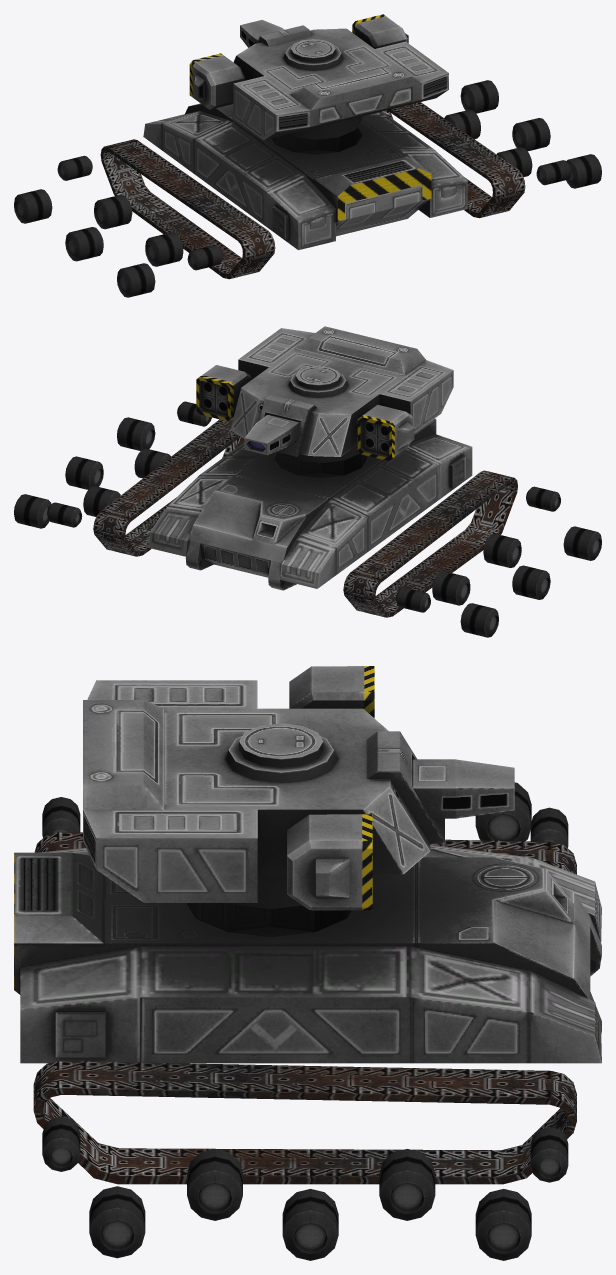
The model's file is Bulldog_ex.FBX.
3 views of the same model, one above another, from view 1: azimuth 30°, elevation 25°; view 2: azimuth 150°, elevation 25°; view 3: azimuth 270°, elevation 25° (orthographic). The views are drawn at different scales.
Parts seen in each view (by area): view 1: body, turret, trackr, trackl, launcher_2, launcher_03, wheel12, wheel10, wheel11, wheel9, wheel13, wheel2 (+8 smaller); view 2: body, turret, trackr, trackl, launcher_2, launcher_03, mantlet_1, wheel10, wheel13, wheel11, wheel12, wheel9 (+9 smaller); view 3: body, turret, trackl, launcher_03, mantlet_1, launcher_2, wheel4, wheel3, wheel2, wheel6, wheel5, trackr (+5 smaller).
Part boxes in pixels (x1=…): body: x1=143, y1=103, x2=467, y2=250; turret: x1=233, y1=25, x2=448, y2=140; trackr: x1=100, y1=139, x2=275, y2=279; trackl: x1=382, y1=102, x2=525, y2=218; launcher_2: x1=189, y1=53, x2=245, y2=109; launcher_03: x1=352, y1=14, x2=408, y2=48; wheel12: x1=145, y1=232, x2=183, y2=266; wheel10: x1=94, y1=195, x2=132, y2=229; wheel11: x1=65, y1=227, x2=103, y2=261; wheel9: x1=14, y1=189, x2=52, y2=223; wheel13: x1=117, y1=263, x2=155, y2=297; wheel2: x1=460, y1=80, x2=498, y2=113; body: x1=148, y1=418, x2=472, y2=590; turret: x1=230, y1=326, x2=453, y2=462; trackr: x1=343, y1=470, x2=517, y2=617; trackl: x1=93, y1=417, x2=244, y2=556; launcher_2: x1=357, y1=405, x2=414, y2=460; launcher_03: x1=196, y1=365, x2=251, y2=421; mantlet_1: x1=244, y1=415, x2=300, y2=454; wheel10: x1=432, y1=571, x2=470, y2=605; wheel13: x1=563, y1=526, x2=601, y2=560; wheel11: x1=512, y1=565, x2=550, y2=599; wheel12: x1=483, y1=533, x2=521, y2=567; wheel9: x1=460, y1=603, x2=498, y2=637; body: x1=14, y1=845, x2=601, y2=1063; turret: x1=83, y1=680, x2=444, y2=908; trackl: x1=33, y1=1061, x2=576, y2=1184; launcher_03: x1=287, y1=814, x2=372, y2=910; mantlet_1: x1=412, y1=759, x2=514, y2=818; launcher_2: x1=289, y1=666, x2=374, y2=718; wheel4: x1=282, y1=1189, x2=338, y2=1260; wheel3: x1=379, y1=1149, x2=435, y2=1220; wheel2: x1=475, y1=1189, x2=531, y2=1260; wheel6: x1=89, y1=1186, x2=145, y2=1258; wheel5: x1=187, y1=1149, x2=242, y2=1220; trackr: x1=34, y1=832, x2=576, y2=874.
Size of the model in its own units: 73.63 by 24.35 by 41.99.
Materials: 1 (1 with a texture image).
